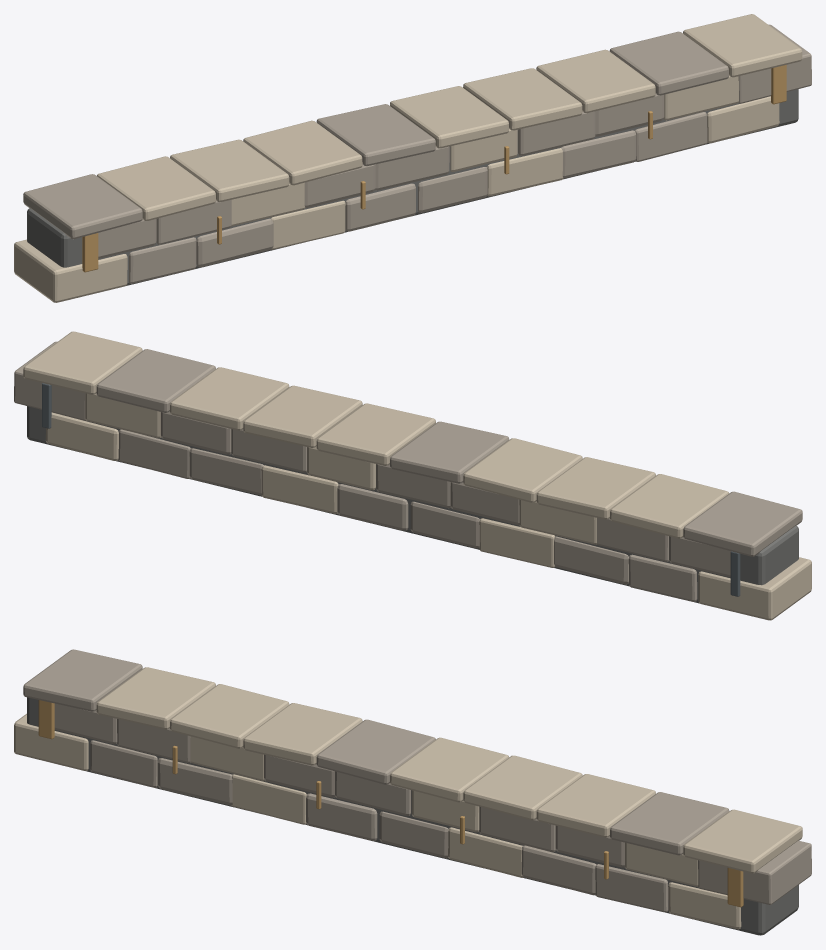
File: stage1_barricade.glb
3 renders of one model, top to bottom at view 1: azimuth 30°, elevation 25°; view 2: azimuth 150°, elevation 25°; view 3: azimuth 330°, elevation 25°, orthographic.
Visible parts, largest first — view 1: SceneryRuntime; view 2: SceneryRuntime; view 3: SceneryRuntime.
Boxes of the visible parts, x1,y1,x2,y2 form: SceneryRuntime: (14,14,811,302); SceneryRuntime: (14,331,811,620); SceneryRuntime: (14,649,811,935).
Bounding box in the file's own units: 10.24 × 1.04 × 1.17.
